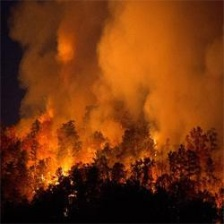fire: (38, 131, 83, 195), (149, 118, 168, 178)
smoke: (48, 2, 219, 108)
